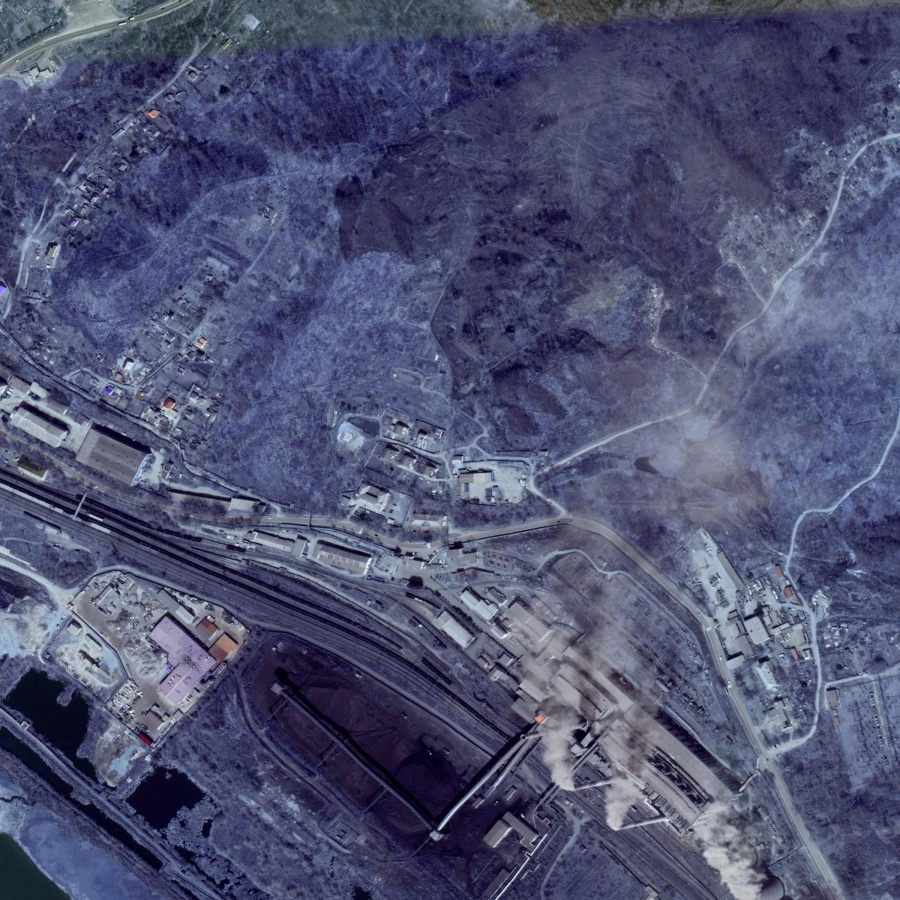PowerPlant: (247, 589, 688, 882)
